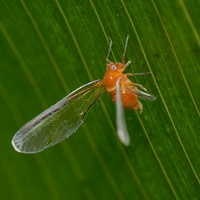insect: (12, 34, 155, 152)
